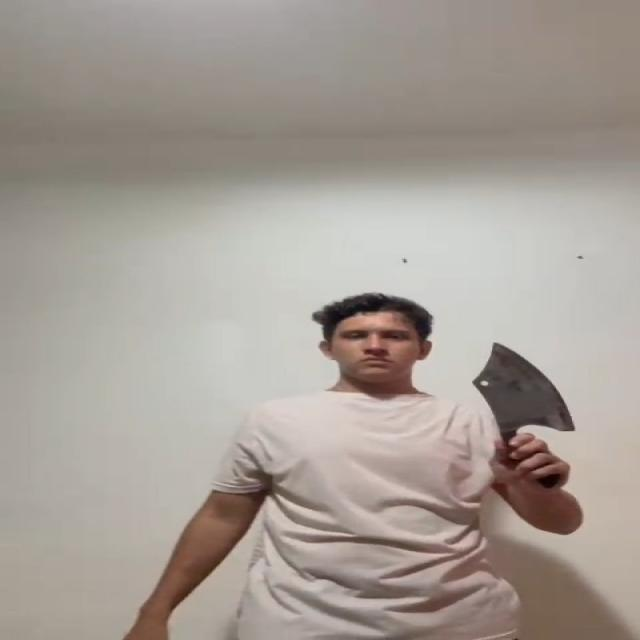knife: (474, 342, 574, 435)
